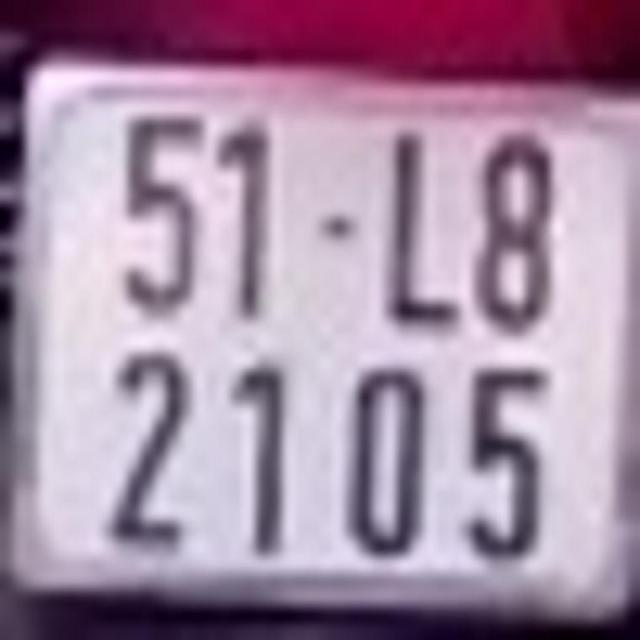0: (346, 356, 427, 556)
1: (228, 357, 288, 554), (219, 112, 271, 315)
2: (112, 354, 195, 540)
5: (456, 358, 555, 564), (118, 117, 204, 322)
8: (475, 122, 568, 349)
L: (380, 125, 464, 328)
